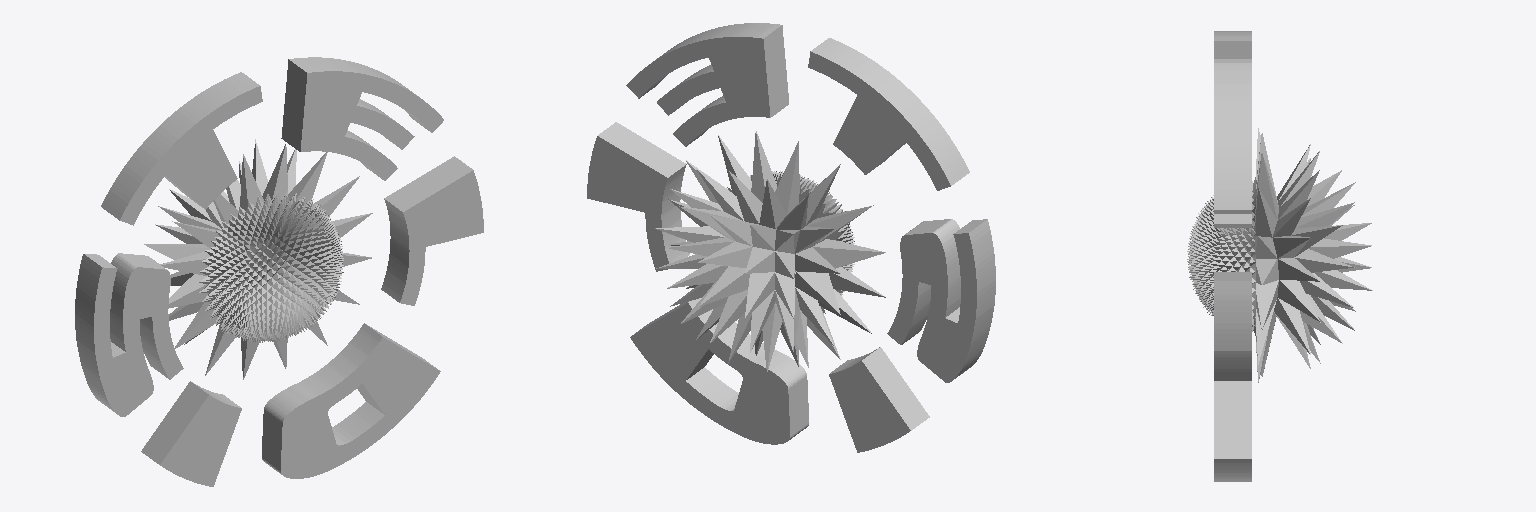
The model's file is Distel.obj.
The picture shows the model from 3 angles: view 1: azimuth 30°, elevation 25°; view 2: azimuth 150°, elevation 25°; view 3: azimuth 270°, elevation 25°; orthographic projection.
Visible parts, largest first — view 1: Text_Text.001, Flower_Cube.001; view 2: Text_Text.001, Flower_Cube.001; view 3: Flower_Cube.001, Text_Text.001.
Part boxes in pixels (x1,y1,x2,y2): Text_Text.001: (75,57,483,486); Flower_Cube.001: (144,139,372,379); Text_Text.001: (587,23,995,452); Flower_Cube.001: (655,131,885,371); Flower_Cube.001: (1187,128,1372,382); Text_Text.001: (1214,31,1251,481).
Size of the model in its own units: 3.59 by 3.56 by 1.49.